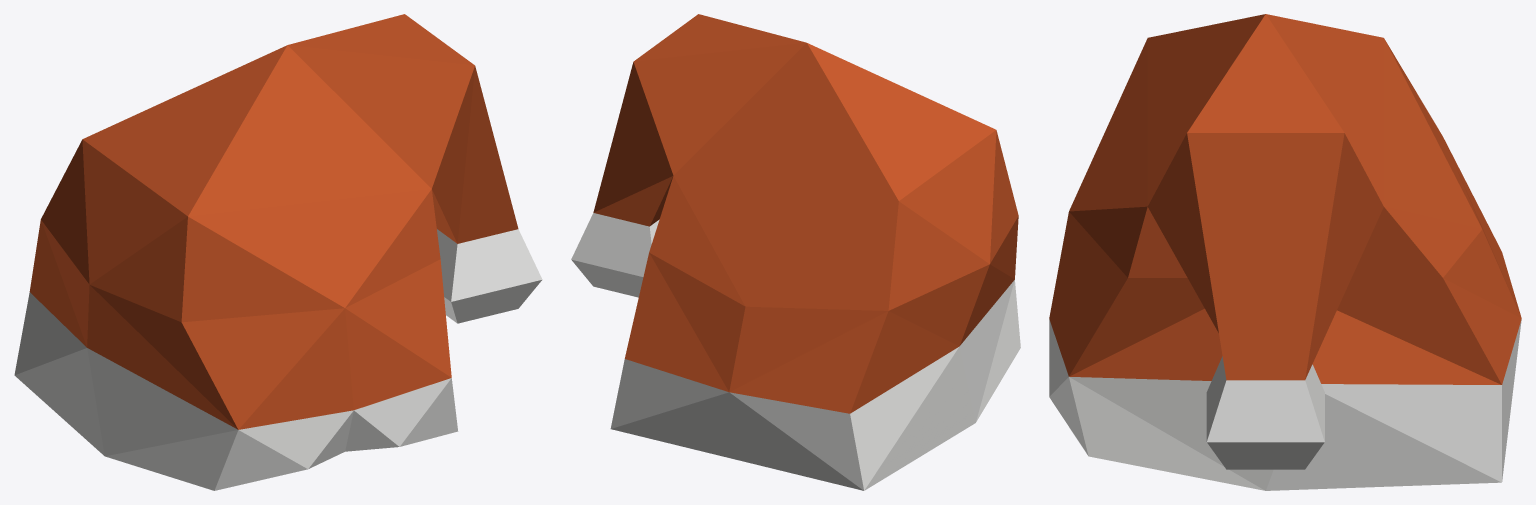
File: hat.glb
The picture shows the model from 3 angles, left to right: view 1: azimuth 30°, elevation 25°; view 2: azimuth 150°, elevation 25°; view 3: azimuth 270°, elevation 25°; orthographic projection. The views are drawn at different scales.
Visible parts, largest first — view 1: [Imported] Model.001; view 2: [Imported] Model.001; view 3: [Imported] Model.001.
Part boxes in pixels (x1,y1,x2,y2): [Imported] Model.001: (14, 14, 542, 490); [Imported] Model.001: (571, 14, 1020, 490); [Imported] Model.001: (1049, 14, 1521, 490).
Size of the model in its own units: 0.513 by 0.4214 by 0.4397.
